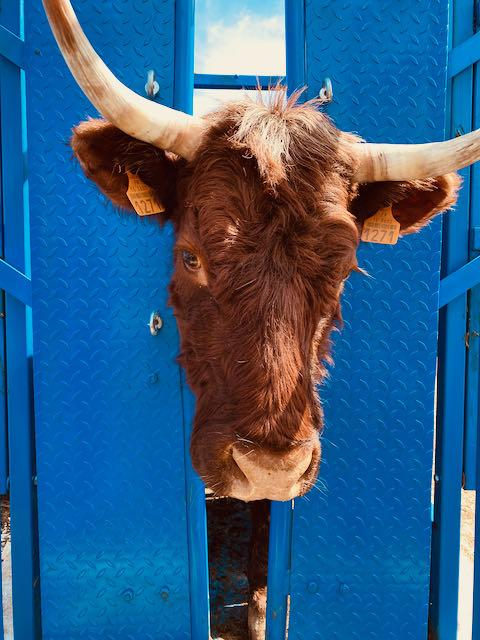muzzles: (179, 432, 348, 512)
